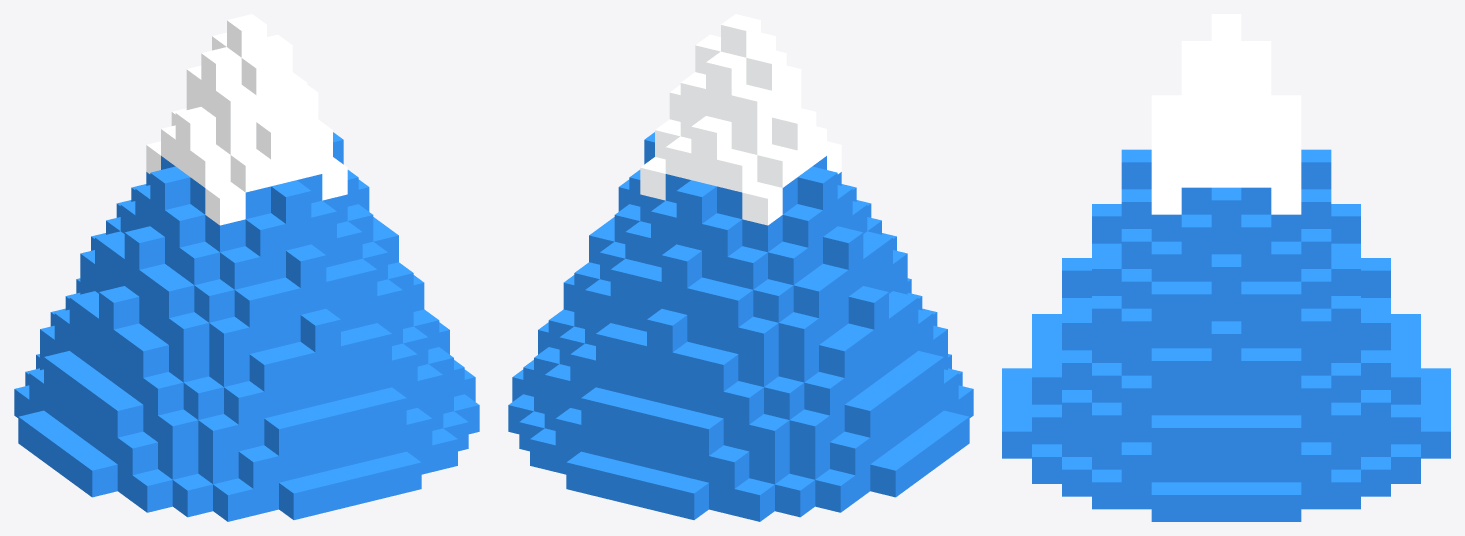
File: voxel-fuji.glb
The picture shows the model from 3 angles, left to right: view 1: azimuth 30°, elevation 25°; view 2: azimuth 150°, elevation 25°; view 3: azimuth 270°, elevation 25°; orthographic projection.
Parts seen in each view (by area): view 1: fuji; view 2: fuji; view 3: fuji.
Part boxes in pixels (<box>): fuji: <box>14,14,479,521</box>; fuji: <box>508,14,973,521</box>; fuji: <box>1002,14,1450,521</box>.
Size of the model in its own units: 2.4 by 2.4 by 2.4.
